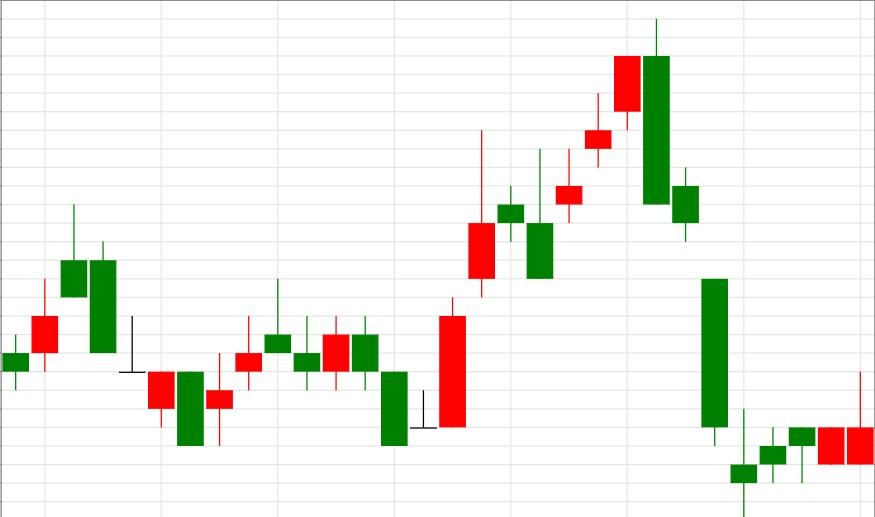bearish_engulfing_fall: (440, 19, 669, 427)
